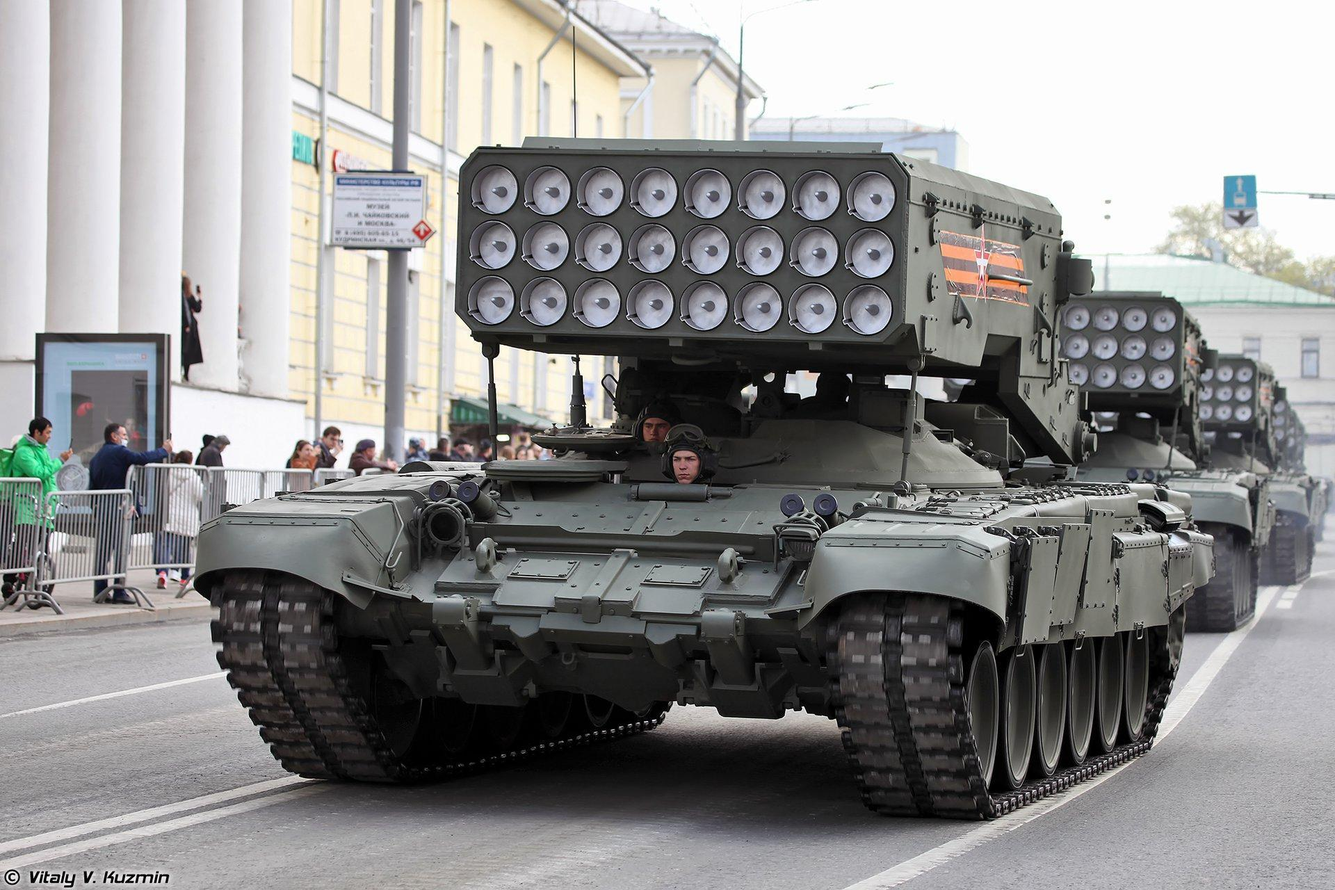person: (1, 420, 75, 601), (83, 417, 138, 609), (199, 435, 236, 544), (348, 429, 393, 482)
rszo: (221, 120, 1209, 834), (1046, 247, 1286, 636), (1204, 326, 1320, 626)
